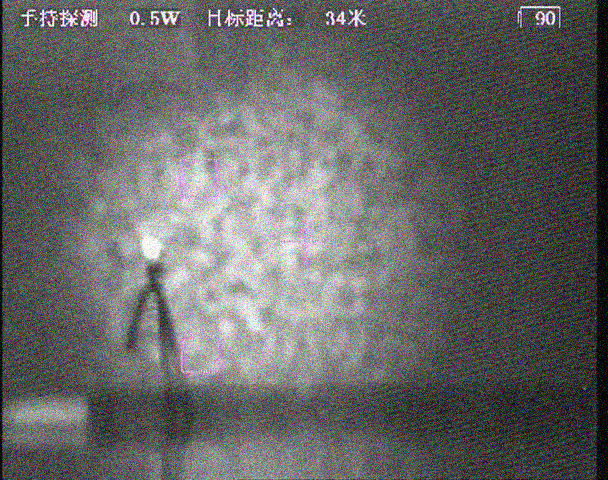my: (138, 234, 165, 261)
